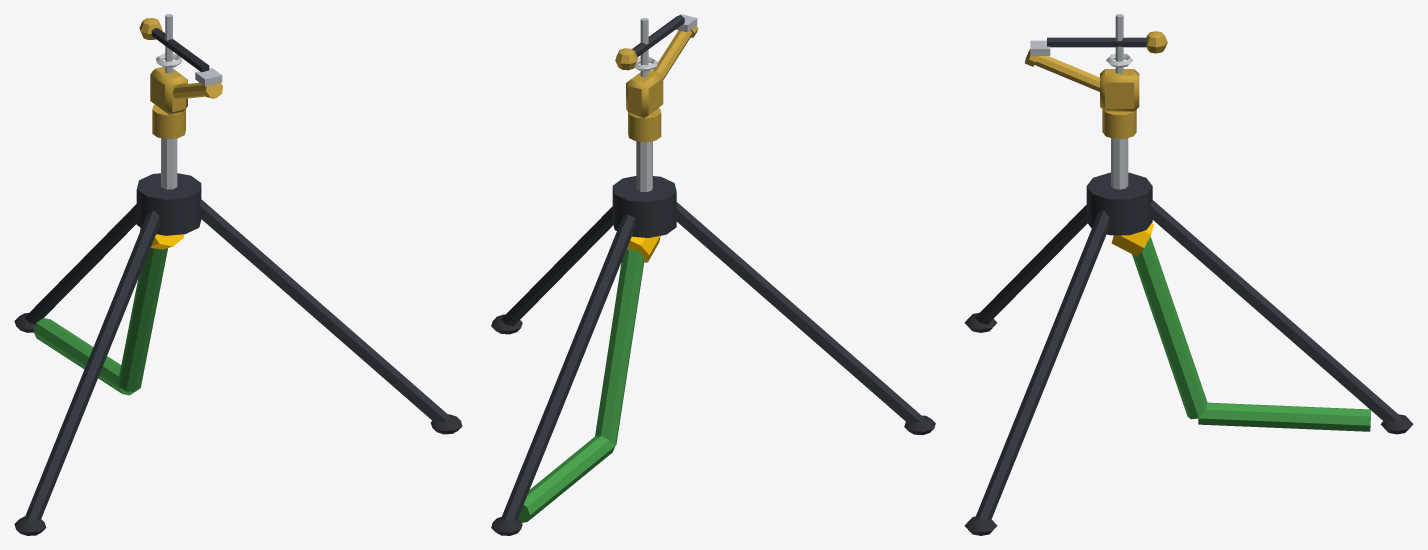
The model's file is sprinkler.glb.
3 renders of one model, left to right at view 1: azimuth 30°, elevation 25°; view 2: azimuth 150°, elevation 25°; view 3: azimuth 270°, elevation 25°, orthographic.
Visible parts, largest first — view 1: body, head; view 2: body, head; view 3: body, head.
Part boxes in pixels (box(x1,y1,x2,y2)): body: box(14, 138, 462, 535); head: box(139, 14, 222, 139); body: box(491, 141, 935, 535); head: box(615, 14, 697, 142); body: box(964, 138, 1413, 535); head: box(1025, 14, 1167, 138).
Bounding box in the file's own units: 77.75 × 69.55 × 68.
